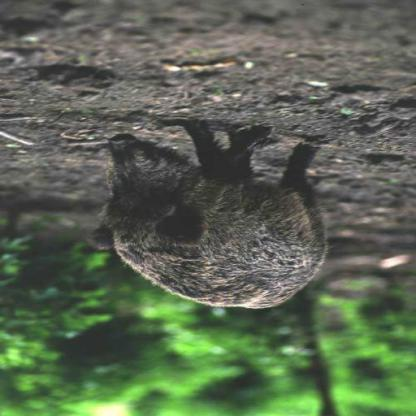boar: (83, 129, 344, 314)
